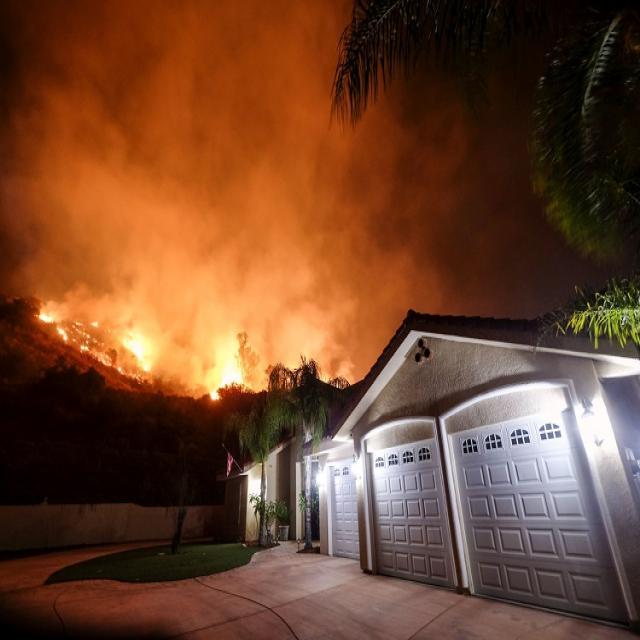Smoke: (13, 0, 528, 381)
